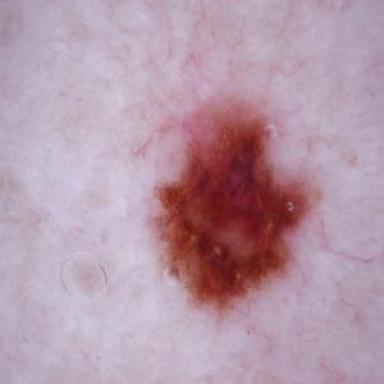Melanoma: (155, 99, 319, 318)
